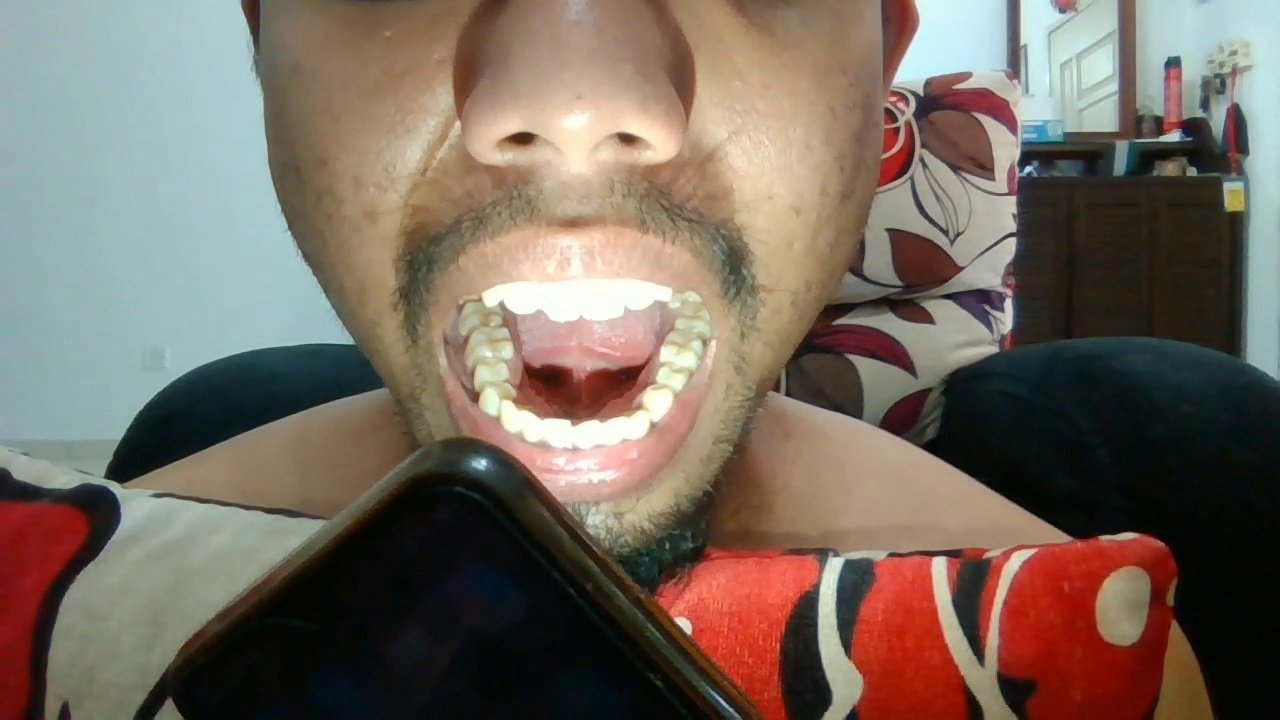1st Molar: (464, 326, 515, 362), (660, 330, 707, 364)
1st Premolar: (641, 384, 675, 420), (478, 383, 516, 415)
2nd Molar: (459, 302, 505, 331), (674, 300, 713, 334)
2nd Premolar: (654, 360, 691, 391), (471, 358, 510, 385)
Canine: (499, 398, 521, 433), (629, 409, 651, 440), (482, 284, 502, 307), (656, 282, 675, 303)
Central Incisor: (539, 276, 582, 322), (582, 276, 625, 321), (541, 418, 572, 451), (571, 418, 602, 450)
Lateral Incisor: (502, 280, 539, 315), (625, 276, 656, 311), (602, 416, 629, 444), (519, 411, 541, 444)
